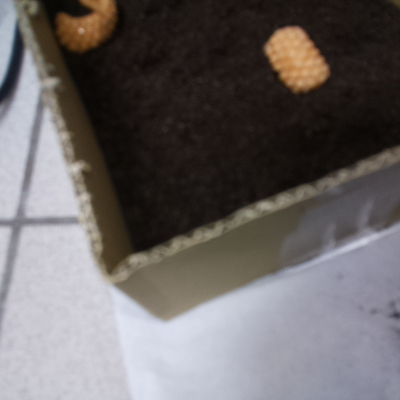eggs: (259, 23, 333, 97), (47, 1, 122, 58)
